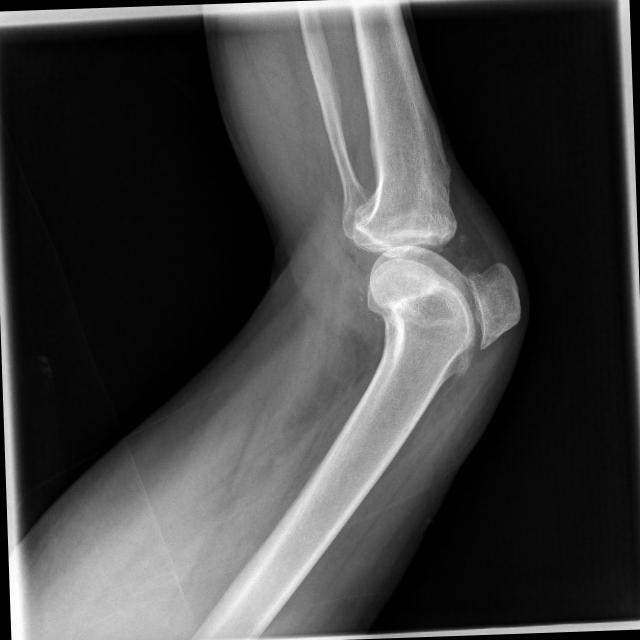Knee: (341, 184, 528, 363)
